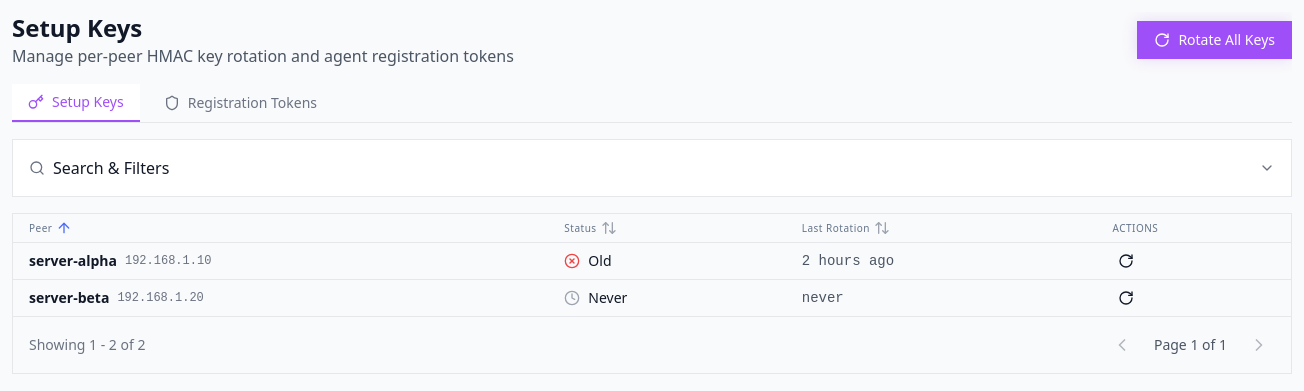
Test: SetupKeys Page › switches to Registration Tokens tab
Click the button "Registration Tokens" at (240, 103), box [148,84,333,122]
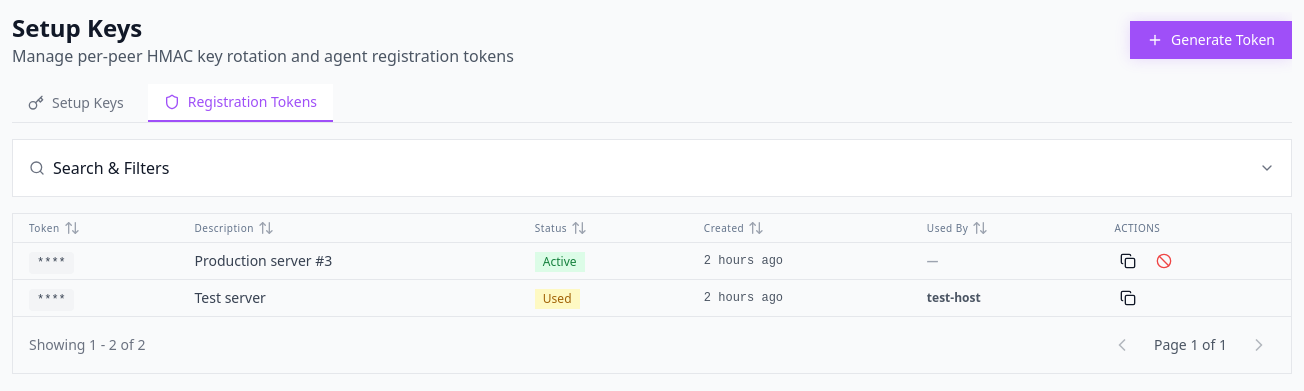
Expected: the button "Generate Token" is shown, [1130,21,1292,59]
